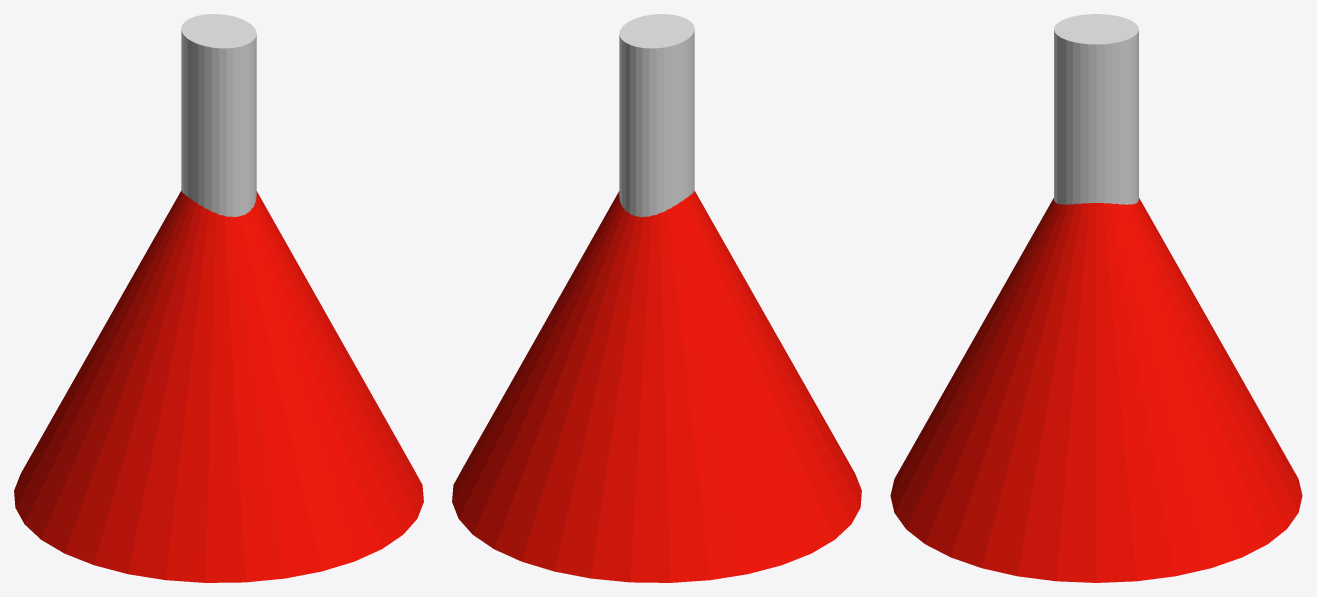
File: pocaoVermelha2.fbx
3 renders of one model, left to right at view 1: azimuth 30°, elevation 25°; view 2: azimuth 150°, elevation 25°; view 3: azimuth 270°, elevation 25°, orthographic.
Visible parts, largest first — view 1: Cone, Cylinder; view 2: Cone, Cylinder; view 3: Cone, Cylinder.
Part boxes in pixels (x1=…): Cone: x1=14, y1=191, x2=423, y2=582; Cylinder: x1=181, y1=14, x2=256, y2=217; Cone: x1=452, y1=191, x2=861, y2=582; Cylinder: x1=619, y1=14, x2=694, y2=217; Cone: x1=890, y1=198, x2=1302, y2=582; Cylinder: x1=1054, y1=14, x2=1138, y2=204.
Bounding box in the file's own units: 200 × 250 × 200.
